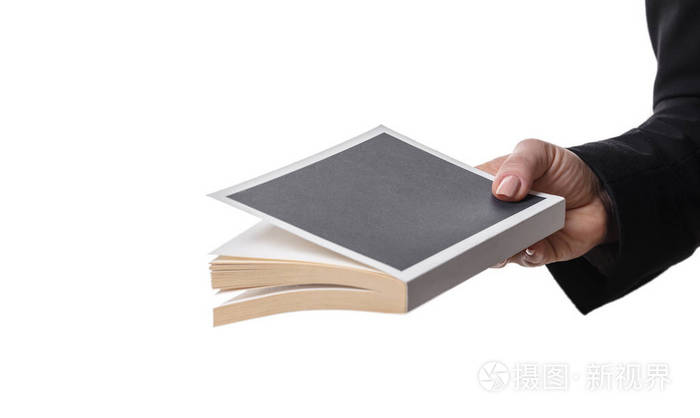no-phone: (196, 133, 607, 330)
